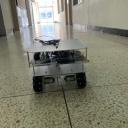cart: (25, 39, 89, 92)
